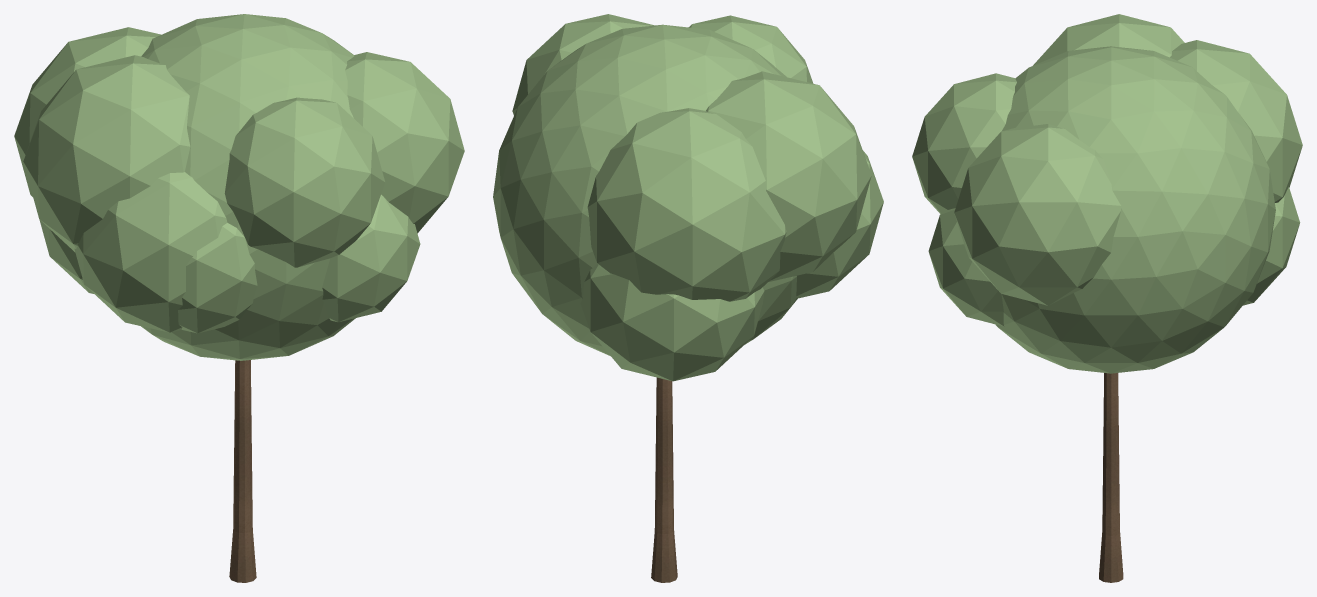
Rendered from tree.glb.
3 views of the same model, side by side, from view 1: azimuth 30°, elevation 25°; view 2: azimuth 150°, elevation 25°; view 3: azimuth 270°, elevation 25° (orthographic). The views are drawn at different scales.
Parts seen in each view (by area): view 1: tree_leaf, tree_bark; view 2: tree_leaf, tree_bark; view 3: tree_leaf, tree_bark.
Boxes of the visible parts, left/top/right/bottom form: tree_leaf: left=14, top=14, right=464, bottom=360; tree_bark: left=229, top=360, right=256, bottom=582; tree_leaf: left=493, top=14, right=883, bottom=381; tree_bark: left=651, top=377, right=677, bottom=582; tree_leaf: left=912, top=14, right=1302, bottom=373; tree_bark: left=1099, top=373, right=1123, bottom=582.
Bounding box in the file's own units: 5.71 × 7.96 × 5.45.
2 materials, 1 textured.
